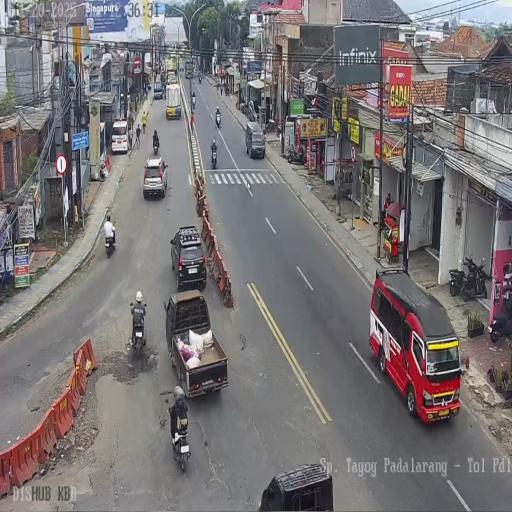3: (166, 76, 182, 119), (165, 57, 176, 79), (185, 60, 193, 78)
car: (165, 290, 229, 398), (169, 226, 206, 291), (143, 156, 168, 199), (246, 121, 266, 159), (111, 118, 130, 155), (153, 82, 165, 100), (161, 72, 166, 86), (179, 65, 183, 71)
truck: (168, 404, 190, 473), (489, 291, 512, 342), (130, 302, 147, 354), (448, 258, 470, 296), (285, 141, 305, 165), (104, 227, 116, 259), (210, 142, 218, 169), (152, 136, 160, 156), (241, 99, 249, 116), (276, 118, 282, 138), (215, 109, 221, 128), (191, 90, 196, 108), (190, 114, 194, 132), (198, 74, 202, 84)
